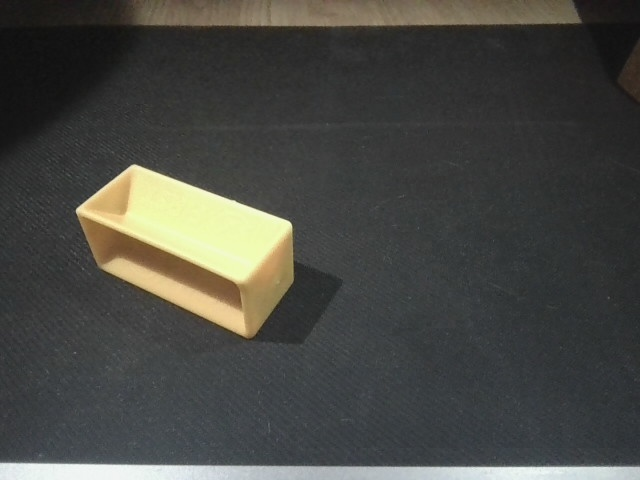YellowSample: (78, 161, 301, 346)
